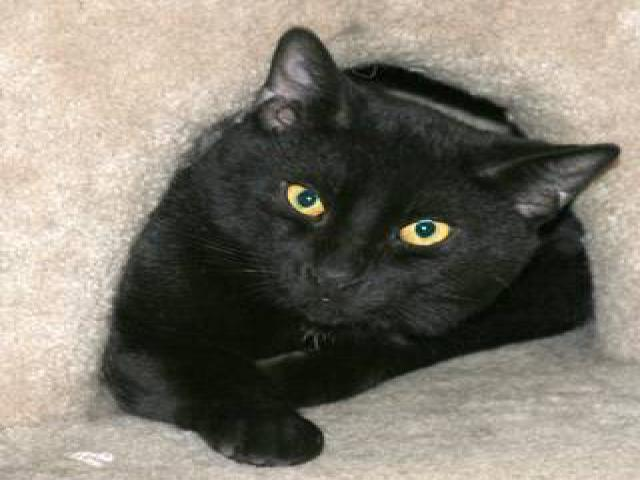cat: (101, 17, 614, 472)
